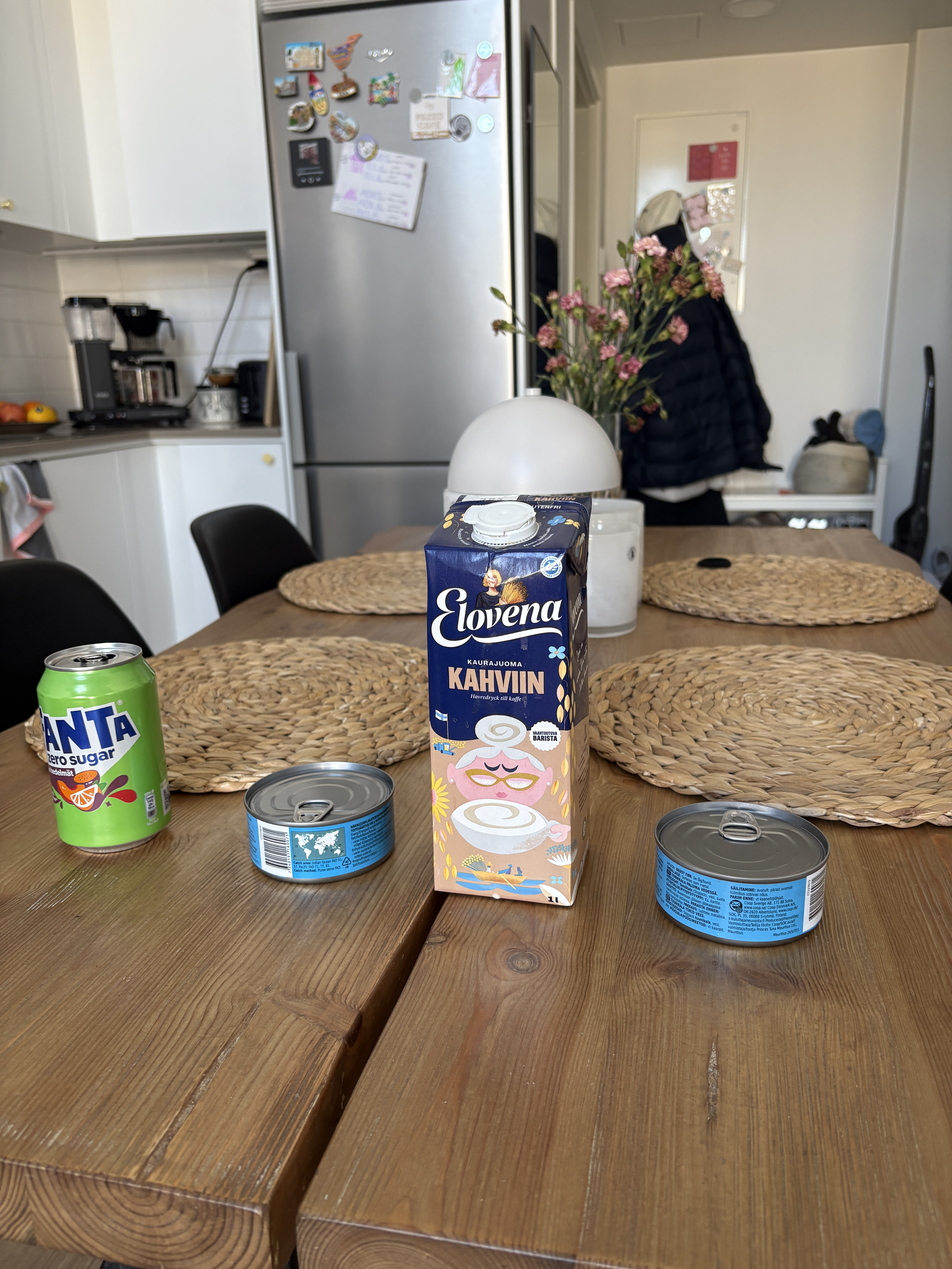Dryckeskartong: (414, 488, 604, 916)
Konservburk: (643, 789, 851, 954), (239, 746, 398, 890)
Pantburk: (36, 623, 177, 854)
